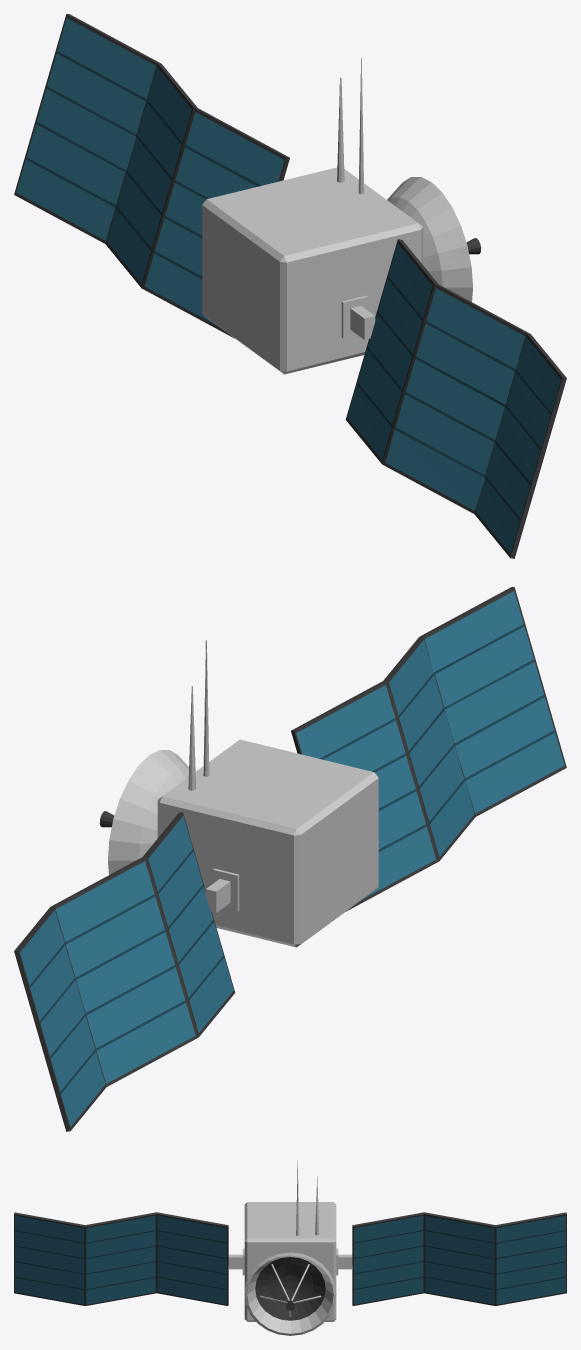
The model's file is satellite.glb.
3 renders of one model, top to bottom at view 1: azimuth 30°, elevation 25°; view 2: azimuth 150°, elevation 25°; view 3: azimuth 270°, elevation 25°, orthographic. The views are drawn at different scales.
Visible parts, largest first — view 1: satellite; view 2: satellite; view 3: satellite.
Part boxes in pixels (x1=…): satellite: x1=14, y1=14, x2=566, y2=558; satellite: x1=14, y1=587, x2=566, y2=1131; satellite: x1=14, y1=1160, x2=566, y2=1335.
Size of the model in its own units: 2.74 by 3.31 by 10.
Materials: 1 (1 with a texture image).
